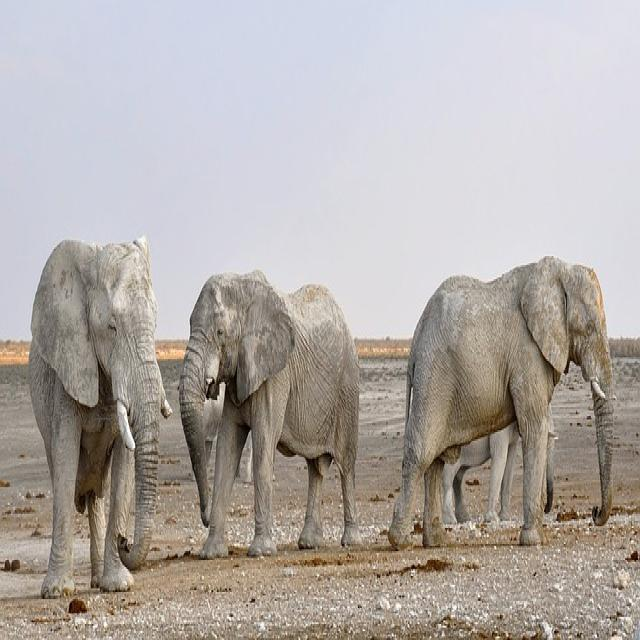Herbivorous: (390, 256, 616, 546), (26, 236, 171, 599), (179, 270, 359, 558)
